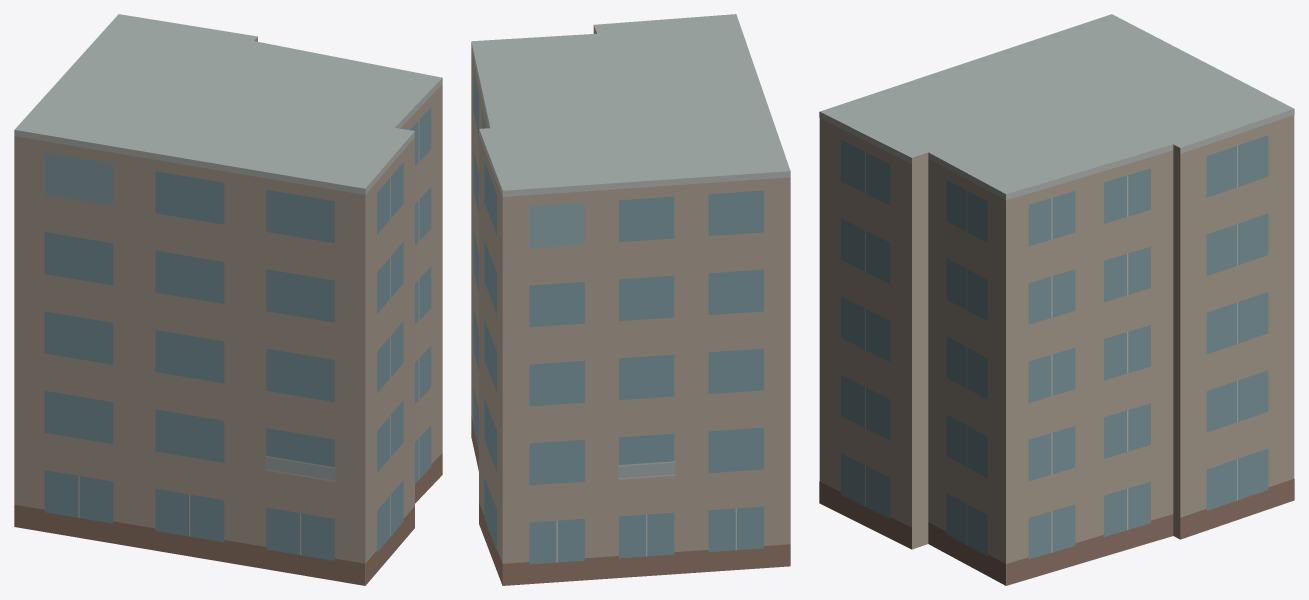
Rendered from survey-upis-32980693.glb.
3 renders of one model, left to right at view 1: azimuth 30°, elevation 25°; view 2: azimuth 150°, elevation 25°; view 3: azimuth 270°, elevation 25°, orthographic.
Visible parts, largest first — view 1: survey-upis-32980693.tmp; view 2: survey-upis-32980693.tmp; view 3: survey-upis-32980693.tmp.
Part boxes in pixels (box(x1,y1,x2,y2)): survey-upis-32980693.tmp: box(14, 14, 442, 585); survey-upis-32980693.tmp: box(471, 14, 790, 585); survey-upis-32980693.tmp: box(819, 14, 1294, 585).
Size of the model in its own units: 15.42 by 15.61 by 17.16.
